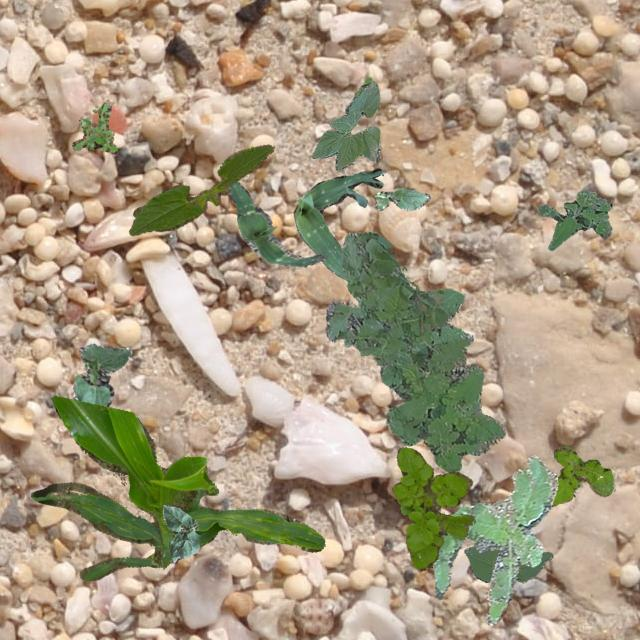crop: (29, 394, 323, 580), (128, 143, 274, 234), (293, 168, 382, 280), (227, 180, 326, 266), (310, 76, 380, 170), (72, 342, 130, 407), (462, 544, 552, 582), (162, 504, 198, 562), (374, 187, 429, 210)
weed: (326, 230, 504, 470), (432, 454, 558, 624), (392, 446, 474, 570), (536, 190, 610, 250), (550, 444, 612, 506), (70, 102, 116, 152)
